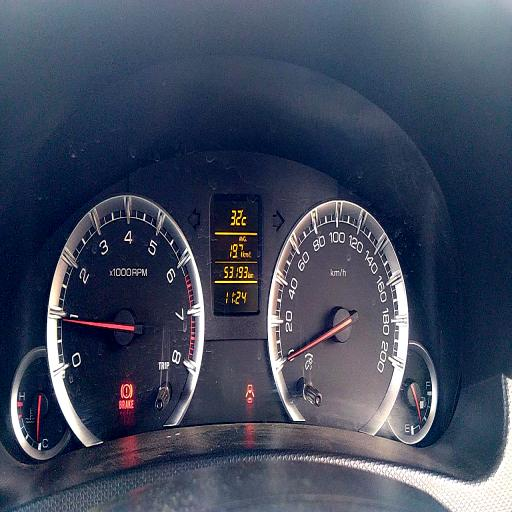brake_system_fault: (120, 383, 133, 399)
tachometer: (47, 194, 206, 441)
